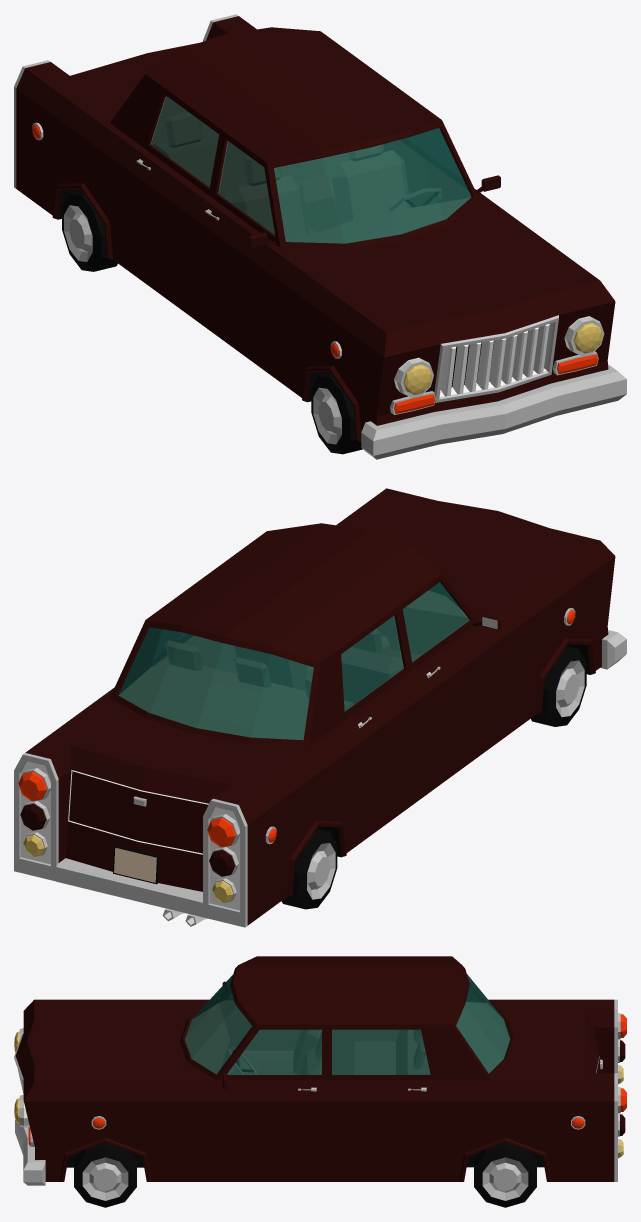
The model's file is Sedan_08.FBX.
The picture shows the model from 3 angles, top to bottom: view 1: azimuth 30°, elevation 25°; view 2: azimuth 150°, elevation 25°; view 3: azimuth 270°, elevation 25°; orthographic projection. The views are drawn at different scales.
Parts seen in each view (by area): view 1: Sedan_08, interior, bumper_f, grill, wheel_b_r, wheel_f_r, lights, headLights, indicatorLights_r; view 2: Sedan_08, interior, bumper_b, wheel_b_r, wheel_f_r, licensePlate_b, lights, tailLights, indicatorLights_r, bumper_f, backupLights, indicatorLights_l; view 3: Sedan_08, interior, wheel_b_l, wheel_f_l, bumper_f, lights, indicatorLights_l.
Part boxes in pixels (bbox=[...]): Sedan_08: bbox=[14, 14, 615, 441]; interior: bbox=[151, 96, 470, 243]; bumper_f: bbox=[361, 364, 626, 459]; grill: bbox=[440, 324, 549, 396]; wheel_b_r: bbox=[62, 191, 117, 271]; wheel_f_r: bbox=[311, 373, 362, 454]; lights: bbox=[32, 122, 604, 414]; headLights: bbox=[403, 323, 602, 394]; indicatorLights_r: bbox=[32, 124, 434, 413]; Sedan_08: bbox=[14, 488, 615, 927]; interior: bbox=[119, 582, 469, 739]; bumper_b: bbox=[56, 858, 205, 918]; wheel_b_r: bbox=[281, 828, 337, 909]; wheel_f_r: bbox=[531, 646, 586, 726]; licensePlate_b: bbox=[113, 845, 159, 884]; lights: bbox=[18, 608, 575, 902]; tailLights: bbox=[20, 804, 235, 876]; indicatorLights_r: bbox=[207, 610, 575, 847]; bumper_f: bbox=[600, 630, 626, 669]; backupLights: bbox=[23, 835, 233, 902]; indicatorLights_l: bbox=[18, 771, 46, 801]; Sedan_08: bbox=[14, 956, 617, 1181]; interior: bbox=[185, 976, 509, 1074]; wheel_b_l: bbox=[474, 1142, 536, 1207]; wheel_f_l: bbox=[74, 1142, 136, 1207]; bumper_f: bbox=[15, 1120, 45, 1185]; lights: bbox=[19, 1013, 620, 1158]; indicatorLights_l: bbox=[28, 1088, 626, 1145].
Bounding box in the file's own units: 23.98 × 20.28 × 62.49.
